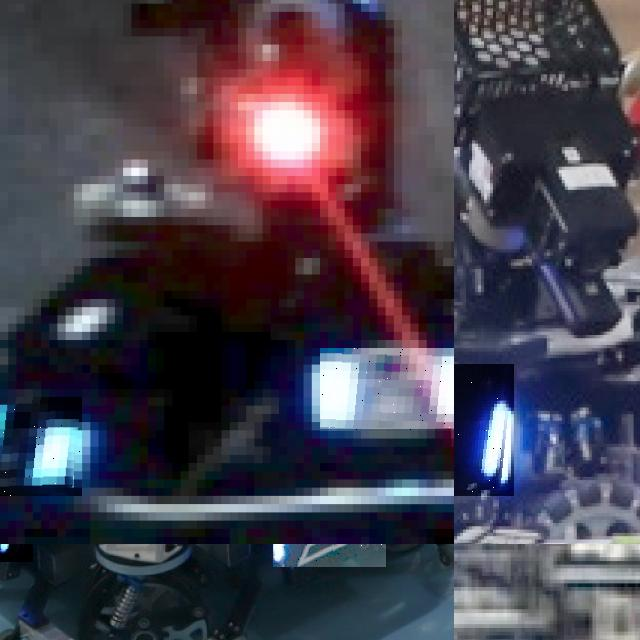B3: (454, 364, 514, 496)
Bs: (320, 348, 454, 430), (0, 397, 82, 495), (273, 544, 385, 567)
